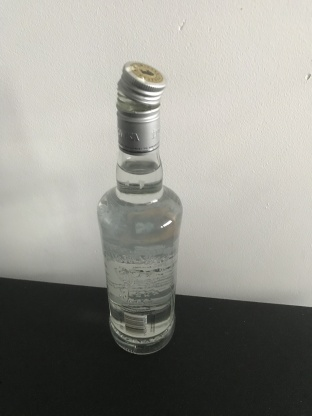nakretka: (114, 57, 168, 156)
